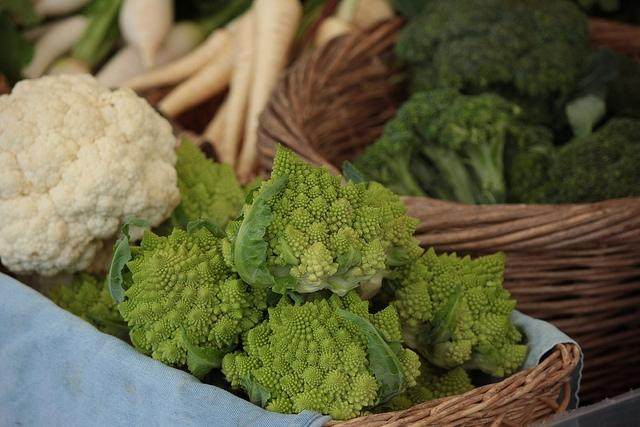broccoli: (340, 89, 525, 204), (394, 0, 591, 100), (513, 117, 640, 204)
carrot: (236, 0, 304, 175), (156, 27, 244, 116), (118, 27, 232, 92), (222, 13, 254, 169), (313, 16, 359, 50)
cauliflower: (0, 74, 178, 274)
